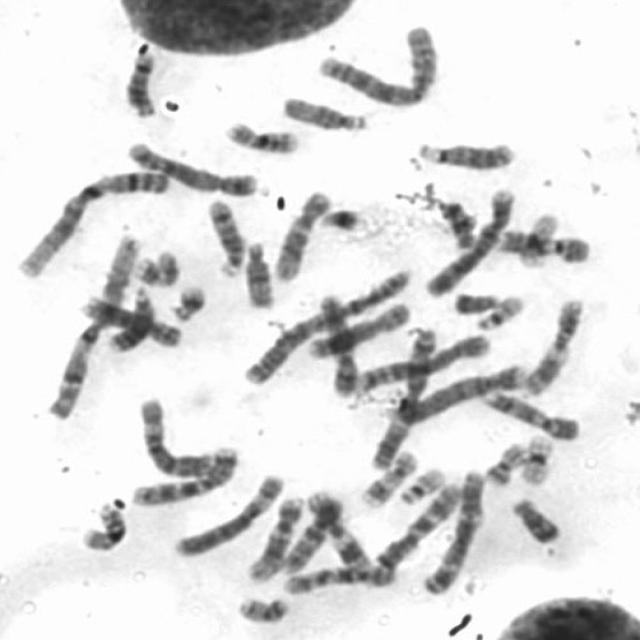A1: (42, 224, 145, 423), (10, 163, 174, 279)
A2: (237, 263, 417, 389), (311, 16, 441, 109)
A3: (366, 322, 440, 473), (417, 463, 489, 598)
B4: (420, 182, 520, 299), (388, 358, 530, 424)
B5: (349, 329, 494, 393), (121, 136, 260, 200)
C10: (276, 490, 350, 576), (280, 562, 396, 597)
C11: (519, 293, 585, 398), (301, 486, 373, 574)
C12: (268, 184, 332, 284), (240, 489, 306, 583)
C6: (167, 468, 284, 559), (132, 392, 216, 479)
C7: (368, 475, 466, 577), (123, 439, 244, 508)
C8: (302, 296, 412, 360), (74, 292, 186, 349)
C9: (480, 384, 586, 443), (492, 224, 593, 265)
D13: (409, 134, 518, 172), (102, 283, 156, 354)
D14: (202, 194, 248, 276), (119, 44, 163, 120)
D15: (277, 88, 372, 132), (240, 234, 279, 310)
E16: (218, 115, 302, 156), (75, 498, 129, 554)
E17: (354, 444, 421, 509), (128, 247, 182, 288)
E18: (506, 492, 565, 546), (436, 195, 479, 251)
F19: (514, 207, 562, 270), (514, 428, 558, 488)
F20: (481, 438, 529, 488), (232, 590, 292, 625)
G21: (166, 281, 208, 324), (312, 202, 366, 233)
G22: (392, 459, 448, 506), (472, 288, 528, 332)
Y: (449, 286, 502, 316)
